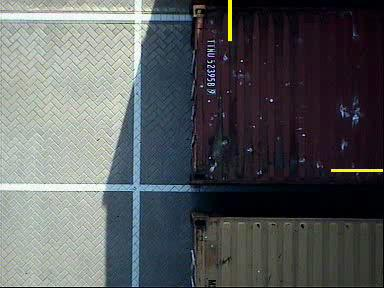groundmarker_2: (66, 178, 122, 217)
